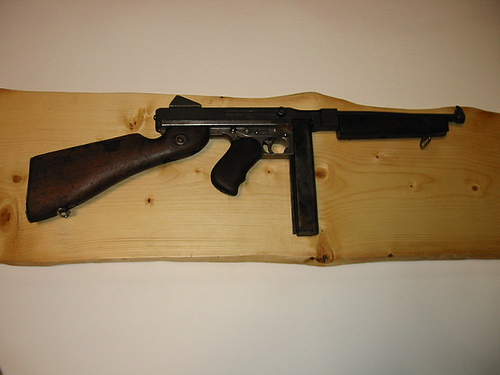rifle: (21, 103, 477, 260)
